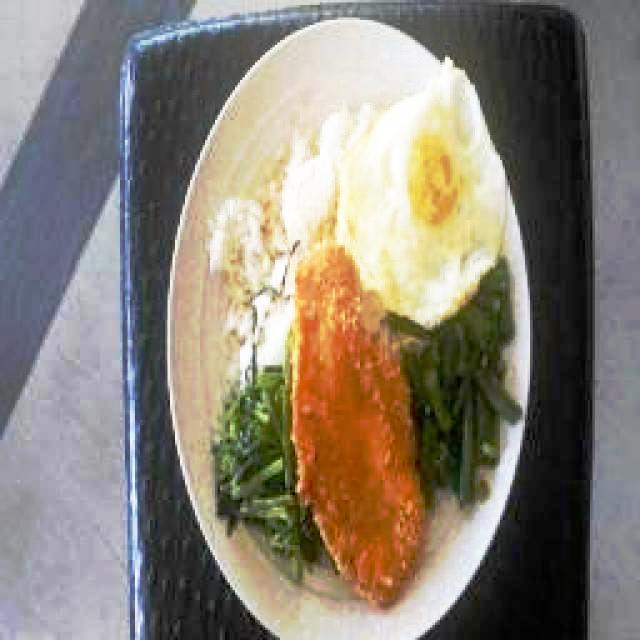fried_chicken: (292, 240, 428, 610)
fried_eggs: (339, 61, 508, 329)
rice: (215, 108, 359, 363)
water_spinach: (408, 258, 524, 510), (214, 362, 323, 581)
